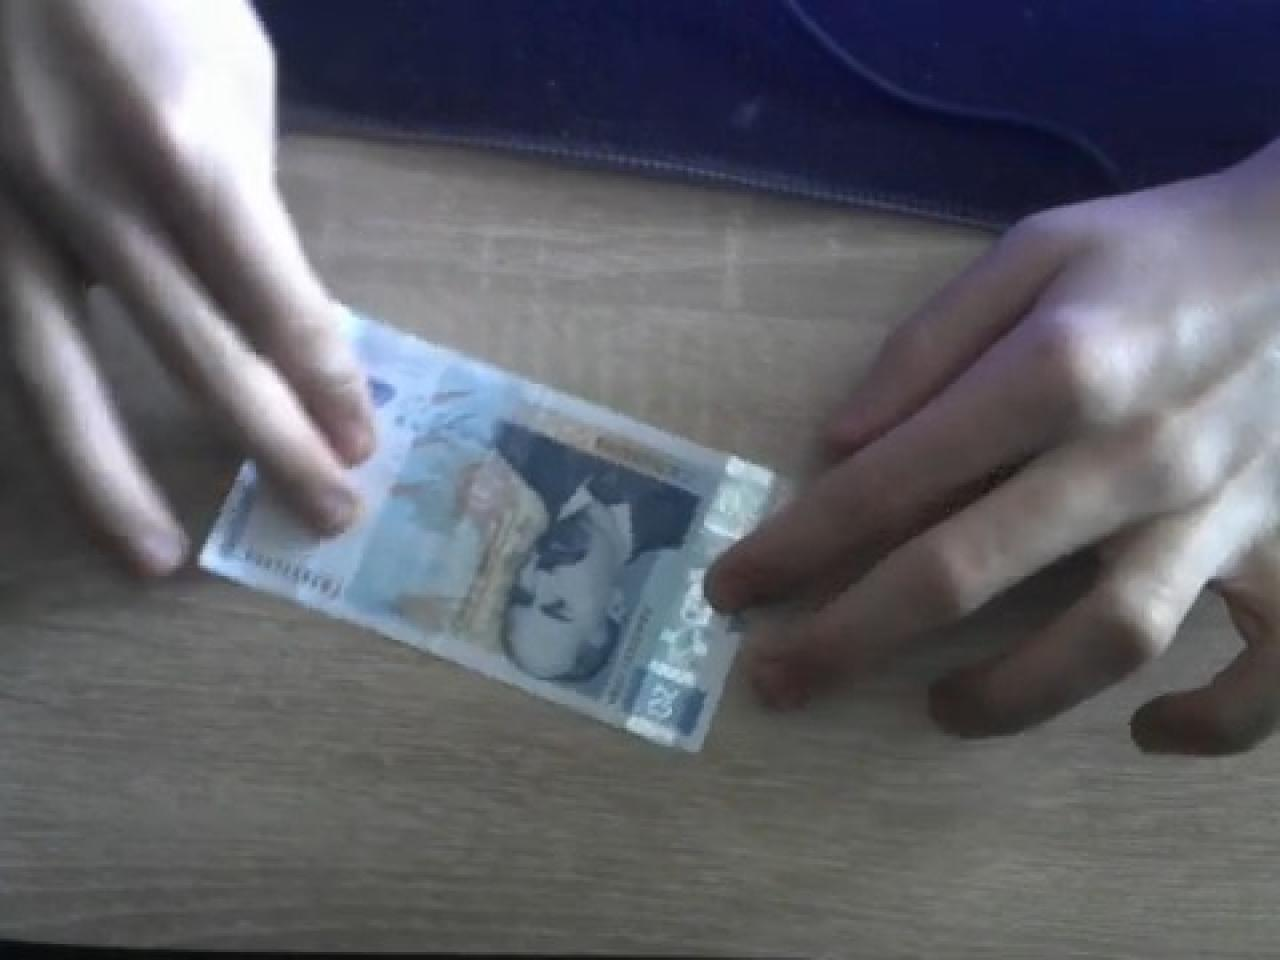20leva: (198, 315, 776, 757)
